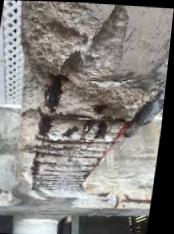damage: (0, 0, 161, 208)
